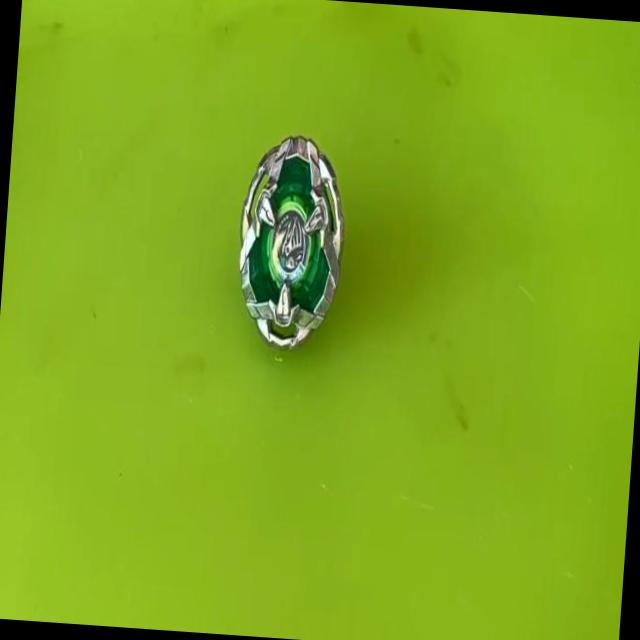Beyblade: (231, 131, 352, 353)
